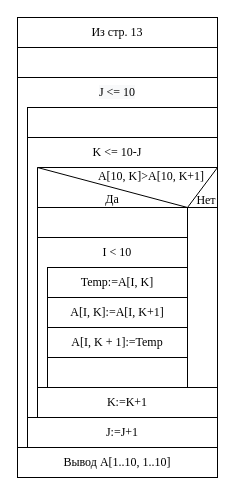
This 237x495 diagram has some shape labels left out. The shapes that lost their labels are listed below. From the top down, each one's box as (x1, y1, x2, y2) in pixels, then its label:
(16, 46, 218, 78): J:=1
(26, 106, 218, 138): K:=1
(36, 206, 188, 238): I:=1
(46, 356, 188, 388): I:=I+1
